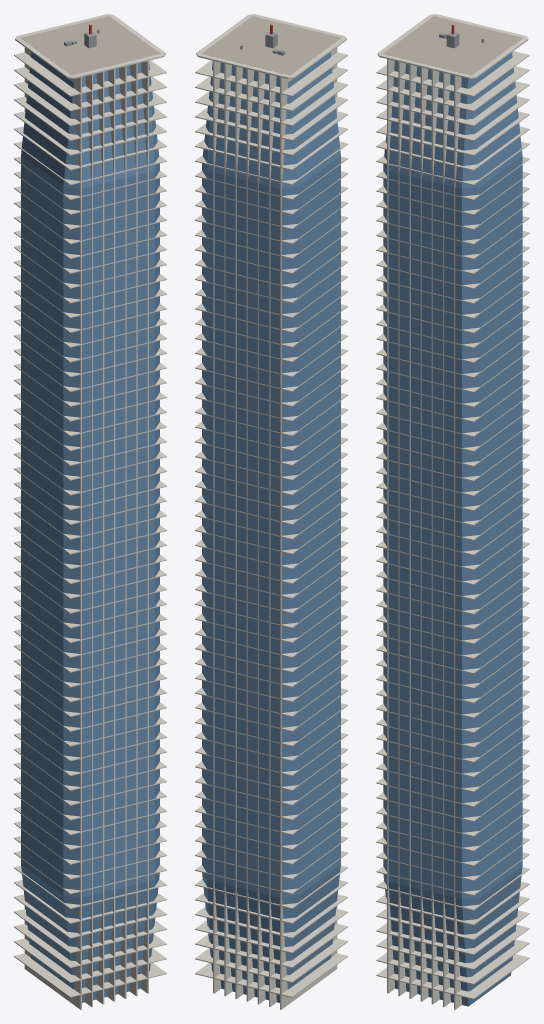
File: tower_grid_h240.glb
3 renders of one model, left to right at view 1: azimuth 30°, elevation 25°; view 2: azimuth 150°, elevation 25°; view 3: azimuth 330°, elevation 25°, orthographic.
Visible parts, largest first — view 1: glasscore, gridroof, mullv, mullv.002, mullv.004, mullv.003, mullv.005, mullv.006, mullv.001, gridlip, mullh.061, mullh (+16 smaller); view 2: glasscore, gridroof, mullv, mullv.002, mullv.004, mullv.003, mullv.005, mullv.006, mullv.001, gridlip, mullh.061, mullh (+17 smaller); view 3: glasscore, gridroof, mullv.004, mullv.003, mullv.002, mullv.001, mullv, mullv.006, mullv.005, gridlip, mullh.061, mullh (+32 smaller).
Boxes of the visible parts, <box> form: glasscore: <box>21,52,159,1002</box>; gridroof: <box>20,16,159,75</box>; mullv: <box>24,47,81,1009</box>; mullv.002: <box>96,72,104,1004</box>; mullv.004: <box>118,66,126,998</box>; mullv.003: <box>107,69,115,1001</box>; mullv.005: <box>129,63,137,996</box>; mullv.006: <box>140,61,148,993</box>; mullv.001: <box>85,74,92,1006</box>; gridlip: <box>15,14,165,78</box>; mullh.061: <box>14,52,166,96</box>; mullh: <box>14,953,166,997</box>; glasscore: <box>202,52,340,1002</box>; gridroof: <box>202,16,341,75</box>; mullv: <box>280,47,337,1009</box>; mullv.002: <box>257,72,265,1004</box>; mullv.004: <box>235,66,243,998</box>; mullv.003: <box>246,69,254,1001</box>; mullv.005: <box>224,63,232,996</box>; mullv.006: <box>213,61,221,993</box>; mullv.001: <box>269,74,276,1006</box>; gridlip: <box>196,14,346,78</box>; mullh.061: <box>195,52,347,96</box>; mullh: <box>195,953,347,997</box>; glasscore: <box>383,52,522,1006</box>; gridroof: <box>383,16,522,75</box>; mullv.004: <box>431,70,439,1004</box>; mullv.003: <box>420,67,428,1001</box>; mullv.002: <box>409,64,417,998</box>; mullv.001: <box>398,62,406,996</box>; mullv: <box>387,59,395,993</box>; mullv.006: <box>454,75,461,1009</box>; mullv.005: <box>443,72,450,1006</box>; gridlip: <box>377,14,528,79</box>; mullh.061: <box>376,51,529,96</box>; mullh: <box>376,954,529,999</box>.
Bounding box in the file's own units: 26.5 × 246 × 26.5.
